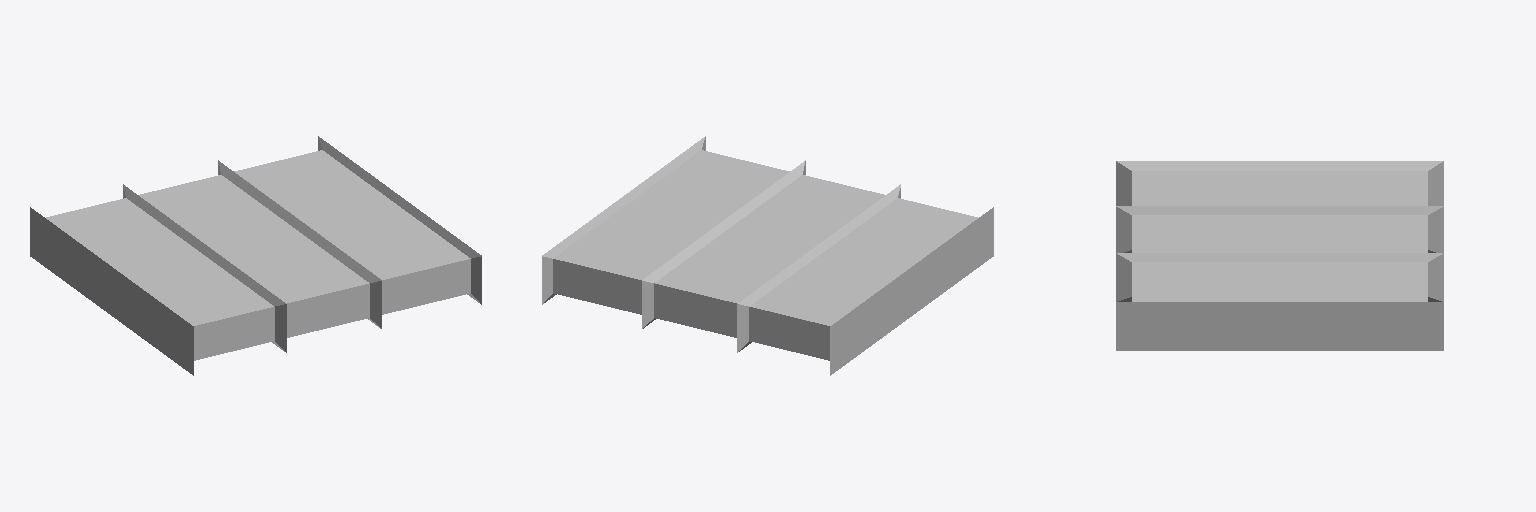
Rendered from barrel-chit.obj.
3 views of the same model, side by side, from view 1: azimuth 30°, elevation 25°; view 2: azimuth 150°, elevation 25°; view 3: azimuth 270°, elevation 25° (orthographic).
Visible parts, largest first — view 1: pCube1; view 2: pCube1; view 3: pCube1.
Part boxes in pixels (x1,y1,x2,y2): pCube1: (30,136,481,375); pCube1: (542,136,993,375); pCube1: (1116,161,1443,350).
Size of the model in its own units: 0.8548 by 0.1398 by 0.8418.